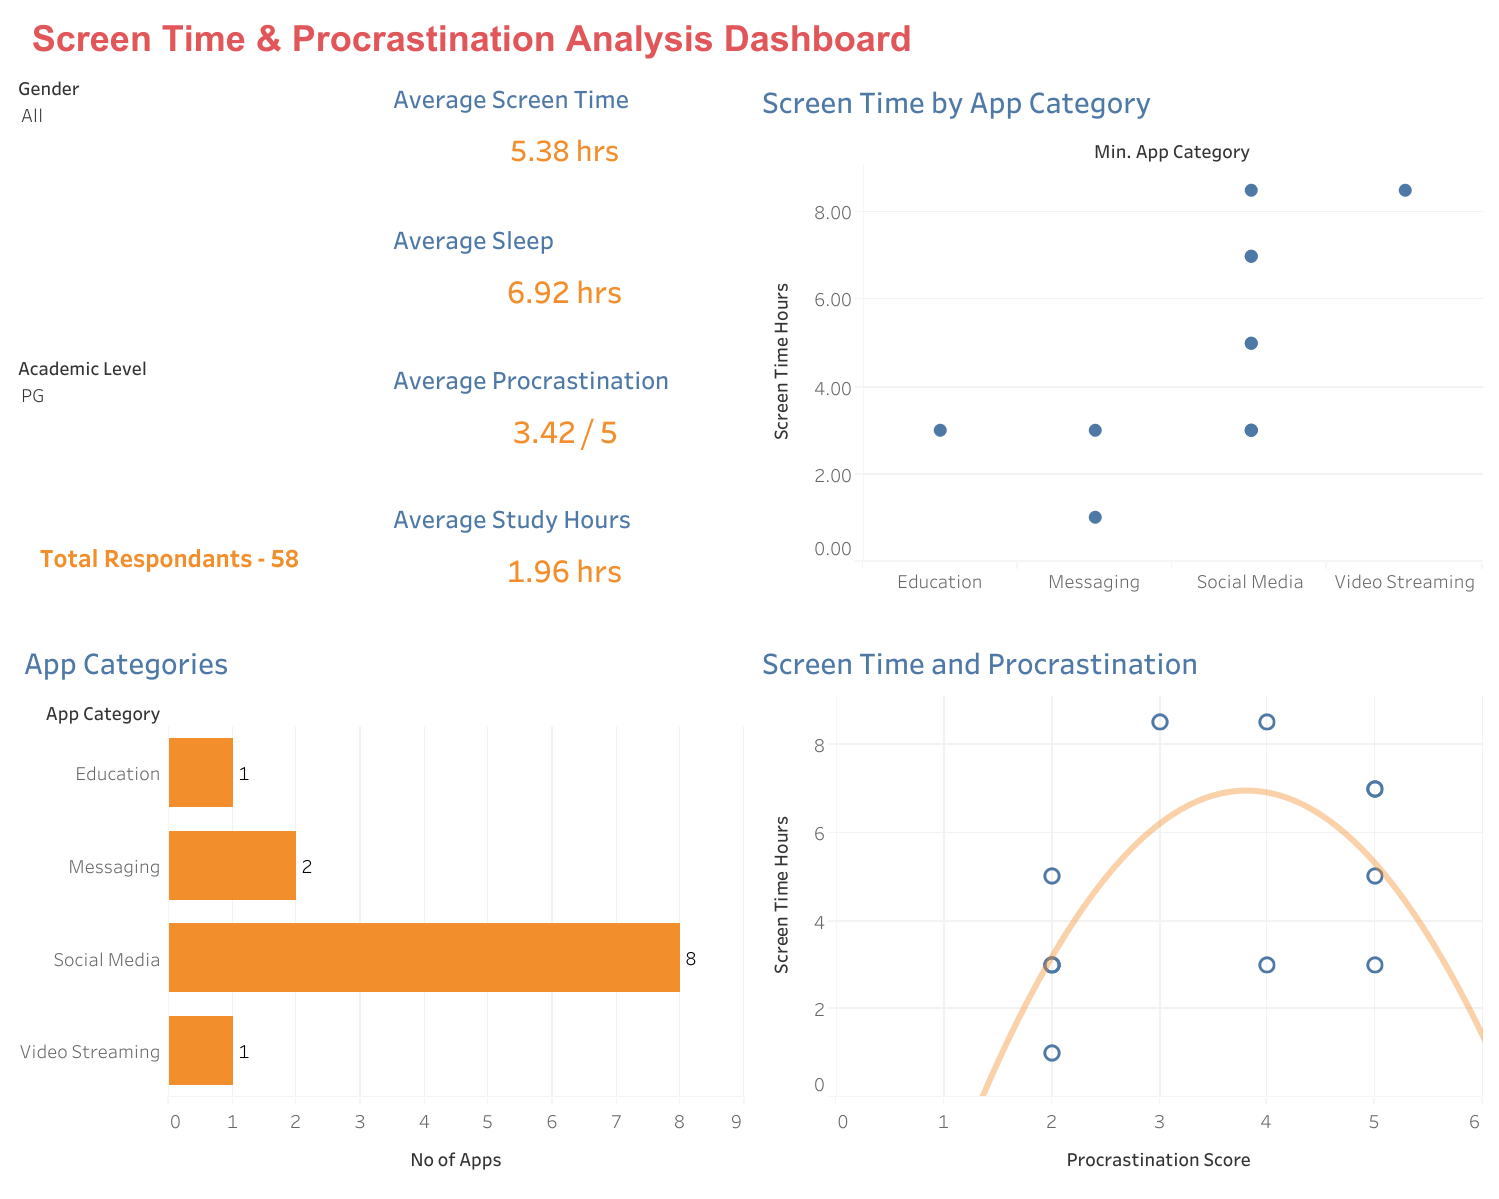

The dashboard page shown, as its layout file describes it:
{"tool":"tableau","page":{"name":"Visual","canvas":[1000,800],"ordinal":0},"visuals":[{"type":"title","box":[8,8,984,36]},{"type":"filter","title":"KPI - Average Study Hours","param":"[federated.0qjfjpn0l8gk9v1fkdtrp0lry3sw].[none:gender:nk]","box":[8,44,246,187]},{"type":"worksheet","title":"KPI - Average Screen Time","mark":"Automatic","box":[254,44,246,93.5]},{"type":"worksheet","title":"Screen Time vs App Category","mark":"Circle","rows":["screen_time_hours"],"cols":["app_category"],"box":[500,44,492,374]},{"type":"worksheet","title":"KPI - Average Sleep","mark":"Automatic","box":[254,137.5,246,93.5]},{"type":"filter","title":"KPI - Average Study Hours","param":"[federated.0qjfjpn0l8gk9v1fkdtrp0lry3sw].[none:academic_level:nk]","box":[8,231,246,187]},{"type":"worksheet","title":"KPI - Average Procrastination","mark":"Automatic","box":[254,231,246,93.5]},{"type":"worksheet","title":"KPI - Average Study Hours","mark":"Automatic","box":[254,324.5,246,93.5]},{"type":"text","box":[24,356,179,30]},{"type":"worksheet","title":"App Categories","mark":"Automatic","rows":["app_category"],"cols":["app_category"],"box":[8,418,492,374]},{"type":"worksheet","title":"Screen Time vs Procrastination","mark":"Automatic","rows":["screen_time_hours"],"cols":["procrastination_score"],"box":[500,418,492,374]}]}

Visuals, with their boxes in screenshot pixels (x1, y1, x2, y2), scaled from the page's 1000x800 canvas onto the 1499x1199 screenshot:
title: box=[12, 12, 1487, 66]
"KPI - Average Study Hours" filter: box=[12, 66, 381, 346]
"KPI - Average Screen Time" worksheet: box=[381, 66, 750, 206]
"Screen Time vs App Category" worksheet (Circle marks): box=[750, 66, 1487, 626]
"KPI - Average Sleep" worksheet: box=[381, 206, 750, 346]
"KPI - Average Study Hours" filter: box=[12, 346, 381, 626]
"KPI - Average Procrastination" worksheet: box=[381, 346, 750, 486]
"KPI - Average Study Hours" worksheet: box=[381, 486, 750, 626]
text: box=[36, 534, 304, 579]
"App Categories" worksheet: box=[12, 626, 750, 1187]
"Screen Time vs Procrastination" worksheet: box=[750, 626, 1487, 1187]
